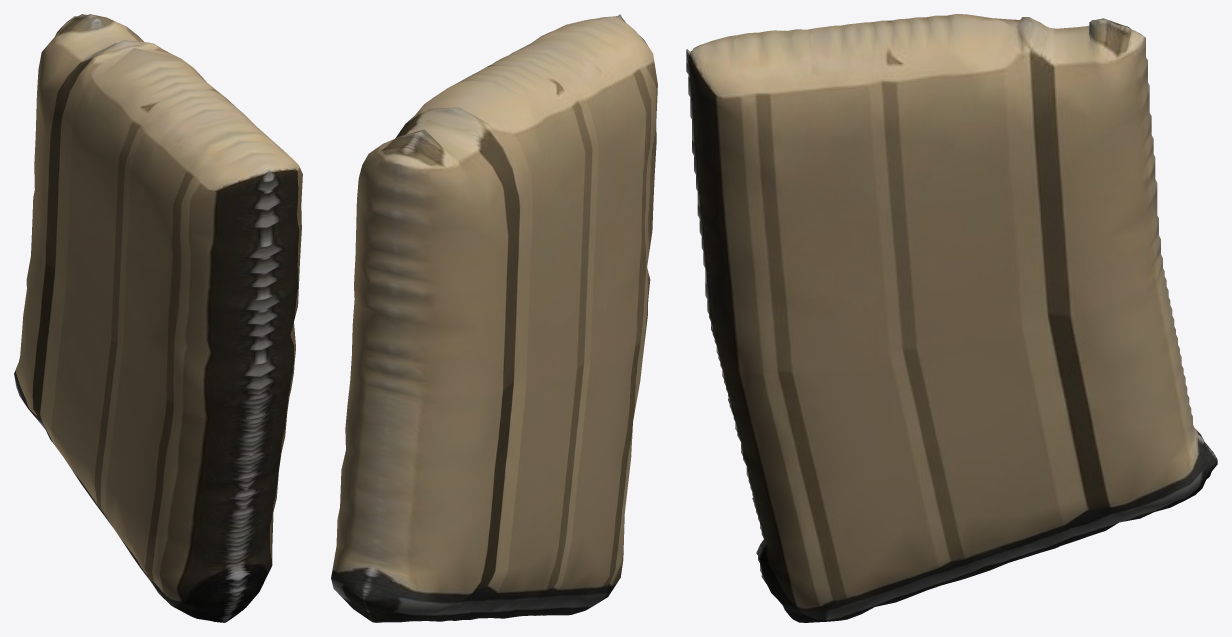
The model's file is sniper-piece1.glb.
3 views of the same model, side by side, from view 1: azimuth 30°, elevation 25°; view 2: azimuth 150°, elevation 25°; view 3: azimuth 270°, elevation 25° (orthographic). The views are drawn at different scales.
Parts seen in each view (by area): view 1: sniper-piece1; view 2: sniper-piece1; view 3: sniper-piece1.
Boxes of the visible parts, box(x1,y1,x2,y2) form: sniper-piece1: box(14, 14, 302, 622); sniper-piece1: box(331, 14, 657, 622); sniper-piece1: box(686, 14, 1217, 622).
Size of the model in its own units: 0.024 by 0.0972 by 0.0783.
1 material, 1 textured.
